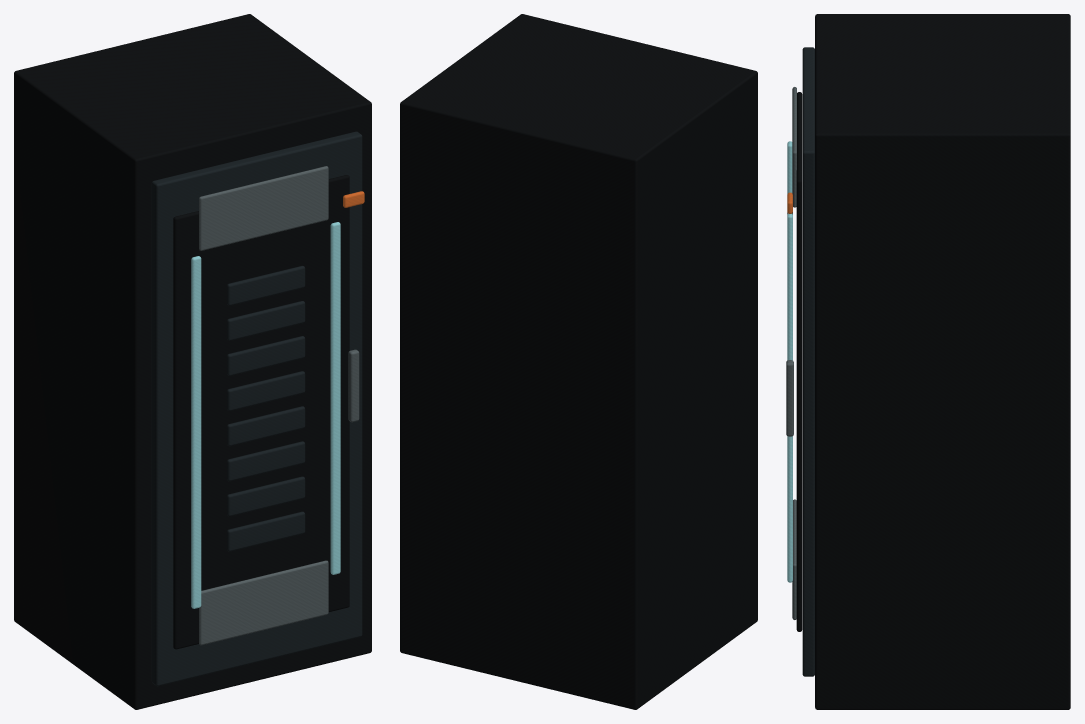
Rendered from ServerRack.glb.
The picture shows the model from 3 angles, left to right: view 1: azimuth 30°, elevation 25°; view 2: azimuth 150°, elevation 25°; view 3: azimuth 270°, elevation 25°; orthographic projection. The views are drawn at different scales.
Parts seen in each view (by area): view 1: ServerRack_Mesh; view 2: ServerRack_Mesh; view 3: ServerRack_Mesh.
Boxes of the visible parts, left/top/right/bottom form: ServerRack_Mesh: left=14, top=14, right=371, bottom=709; ServerRack_Mesh: left=400, top=14, right=757, bottom=709; ServerRack_Mesh: left=786, top=14, right=1070, bottom=709.
Bounding box in the file's own units: 0.92 × 2.04 × 0.9125.
5 materials, 5 textured.
